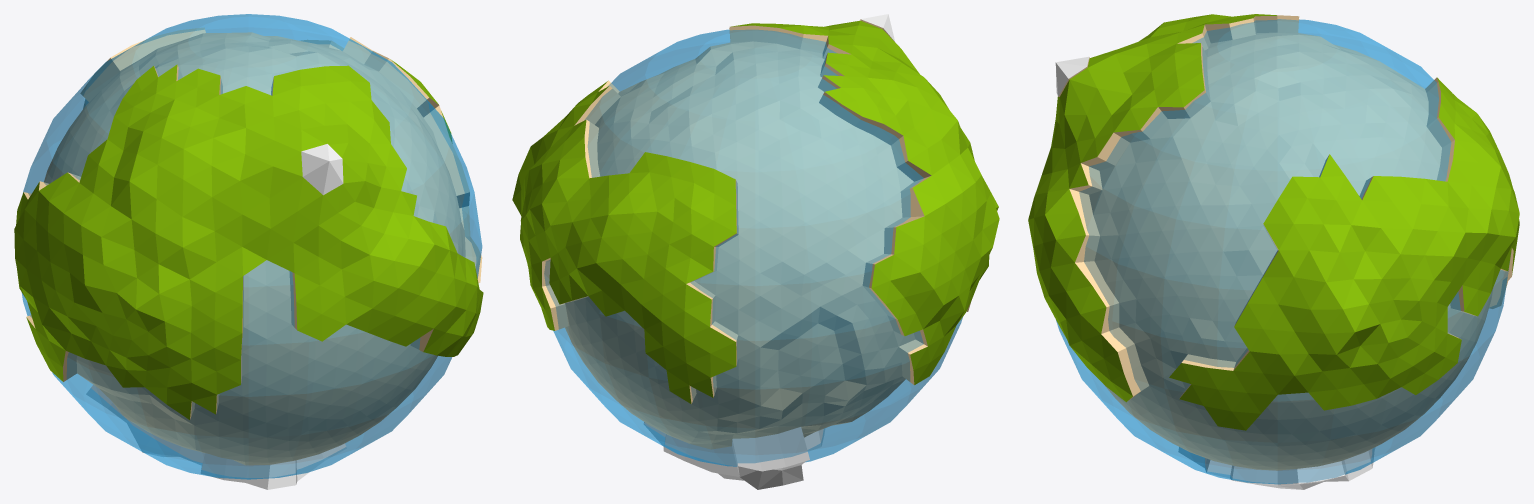
File: Planeta_1.fbx
The picture shows the model from 3 angles, left to right: view 1: azimuth 30°, elevation 25°; view 2: azimuth 150°, elevation 25°; view 3: azimuth 270°, elevation 25°; orthographic projection. The views are drawn at different scales.
Visible parts, largest first — view 1: Esfera_2, Esfera; view 2: Esfera_2, Esfera; view 3: Esfera_2, Esfera.
Part boxes in pixels (box(x1,y1,x2,y2)): Esfera_2: box(14, 27, 483, 489); Esfera: box(22, 14, 482, 479); Esfera_2: box(512, 14, 999, 489); Esfera: box(544, 29, 962, 466); Esfera_2: box(1028, 14, 1519, 489); Esfera: box(1056, 19, 1509, 484).
Bounding box in the file's own units: 6904 × 6578 × 6726.
